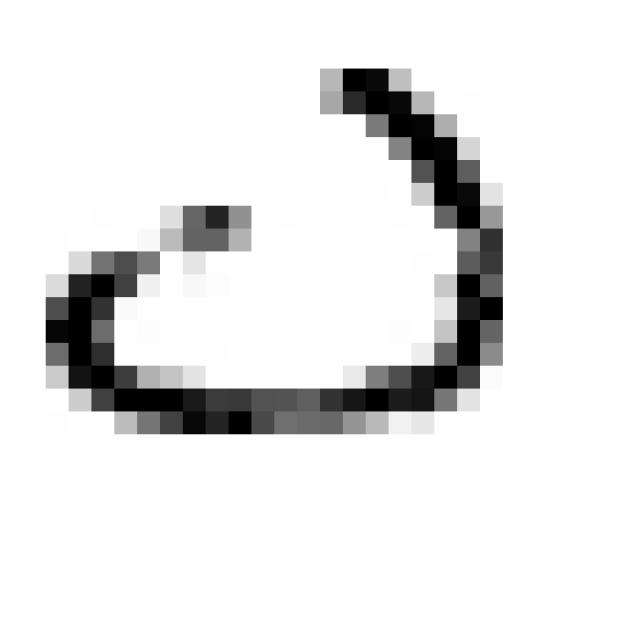5 -five-: (25, 41, 520, 457)
